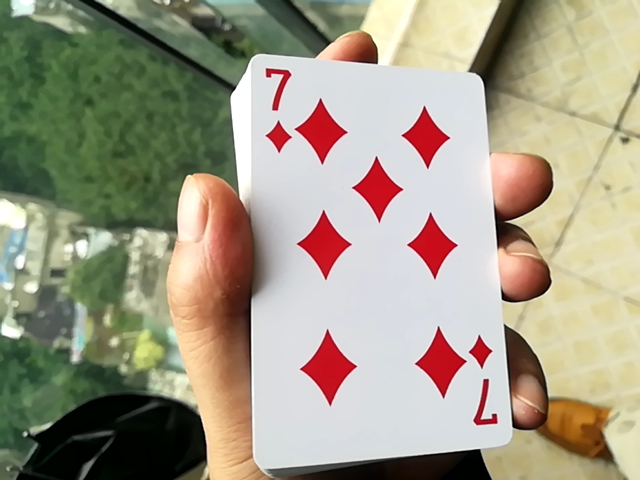fk 7: (224, 36, 504, 470)
